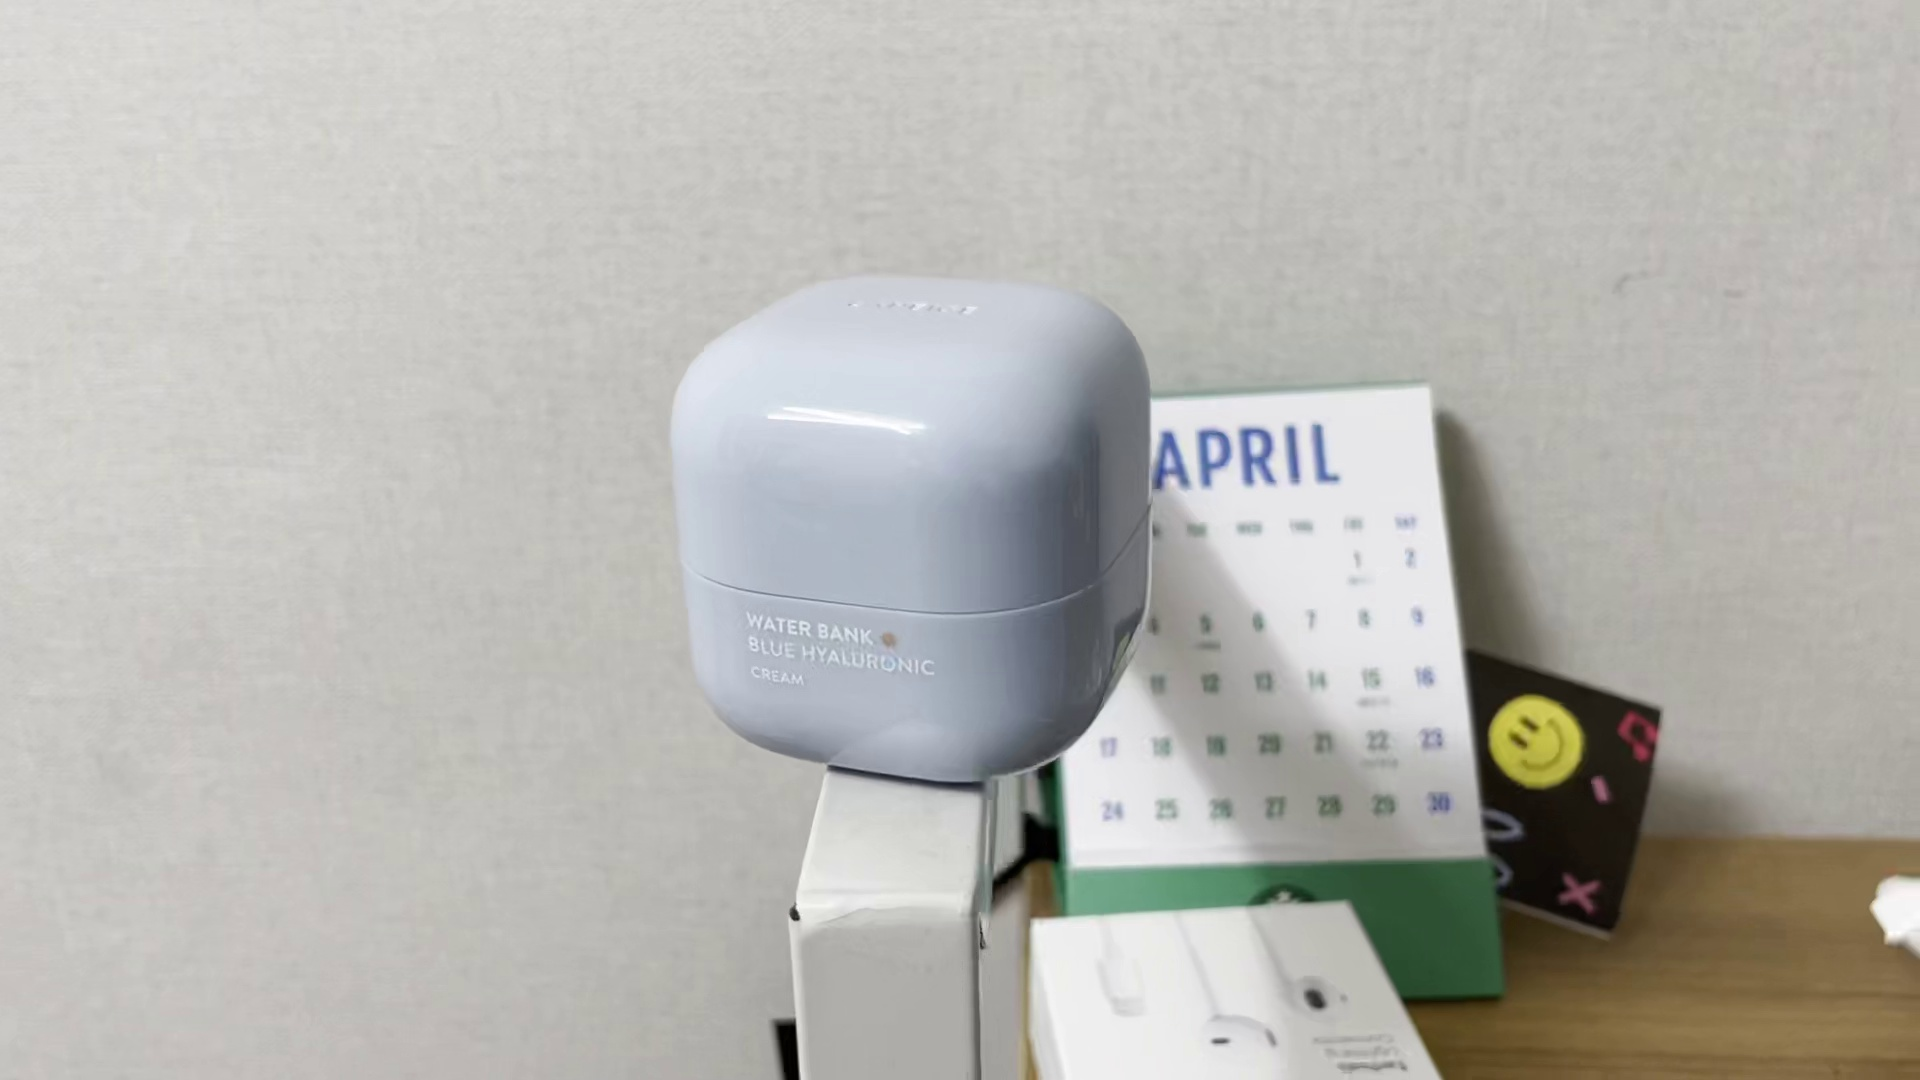cream: (675, 270, 1154, 785)
